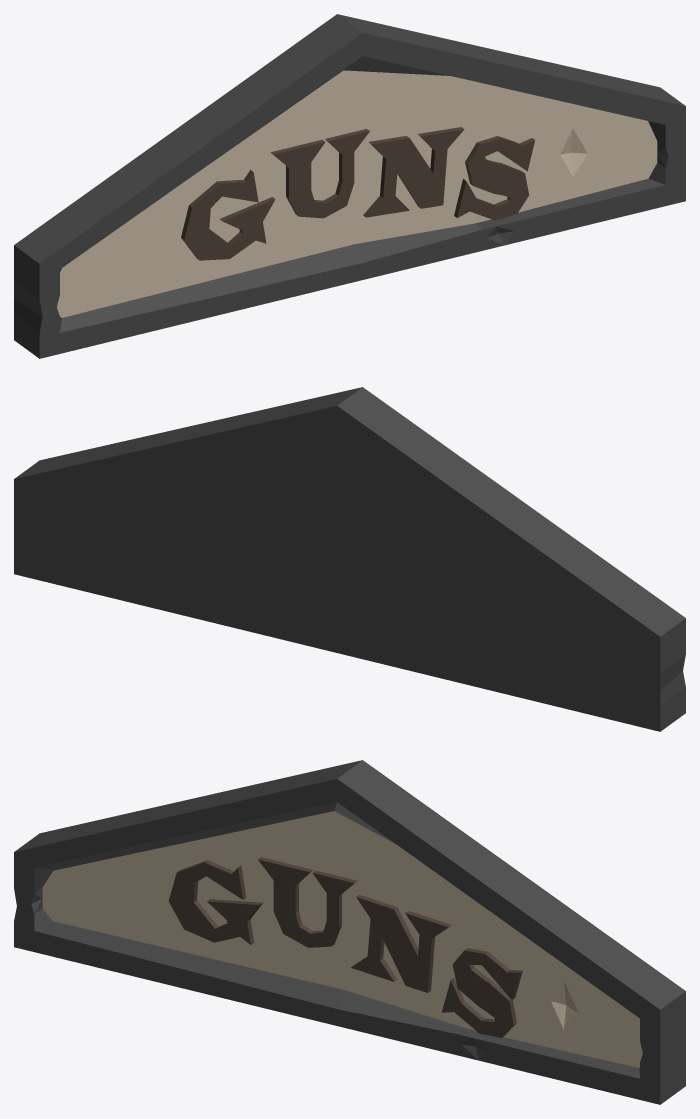
Rendered from Signboard_guns.fbx.
3 renders of one model, top to bottom at view 1: azimuth 30°, elevation 25°; view 2: azimuth 150°, elevation 25°; view 3: azimuth 330°, elevation 25°, orthographic.
Parts seen in each view (by area): view 1: Signboard_guns; view 2: Signboard_guns; view 3: Signboard_guns.
Part boxes in pixels (x1=…): Signboard_guns: x1=14, y1=14, x2=685, y2=358; Signboard_guns: x1=14, y1=387, x2=685, y2=731; Signboard_guns: x1=14, y1=760, x2=685, y2=1104.
Bounding box in the file's own units: 370 × 25.43 × 135.
